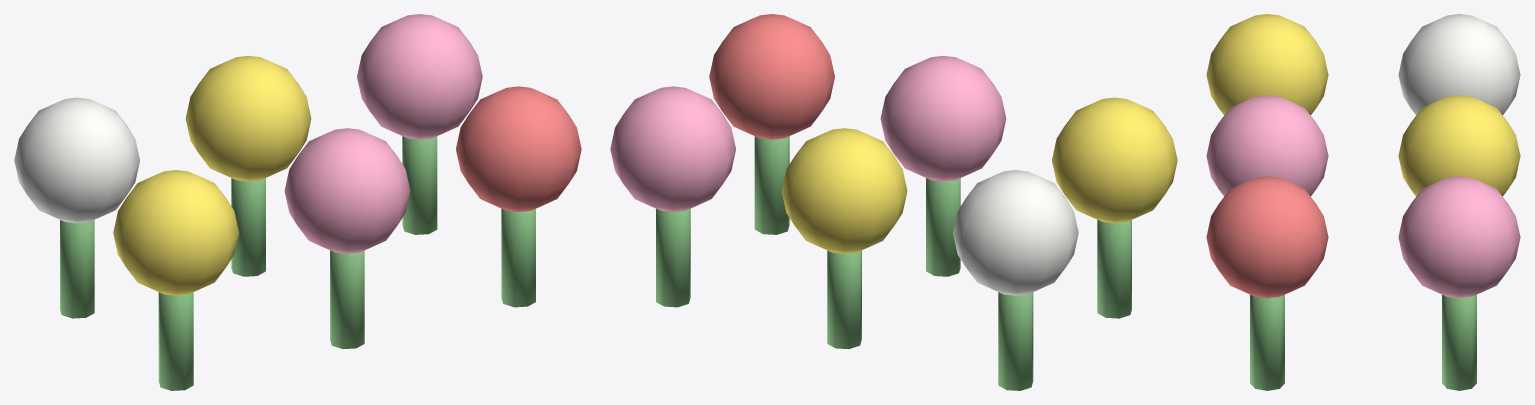
File: flowers.glb
3 renders of one model, left to right at view 1: azimuth 30°, elevation 25°; view 2: azimuth 150°, elevation 25°; view 3: azimuth 270°, elevation 25°, orthographic. The views are drawn at different scales.
Parts seen in each view (by area): view 1: Bloom_3, Bloom_0, Bloom_1, Bloom_4, Bloom_5, Bloom_2, Stem_0, Stem_3, Stem_1, Stem_2, Stem_5, Stem_4; view 2: Bloom_0, Bloom_3, Bloom_4, Bloom_1, Bloom_2, Bloom_5, Stem_3, Stem_0, Stem_4, Stem_5, Stem_2, Stem_1; view 3: Bloom_2, Bloom_5, Bloom_1, Bloom_4, Bloom_0, Bloom_3, Stem_2, Stem_5.
Part boxes in pixels (x1=…): Bloom_3: x1=14, y1=97, x2=139, y2=223; Bloom_0: x1=113, y1=170, x2=238, y2=295; Bloom_1: x1=284, y1=128, x2=410, y2=253; Bloom_4: x1=185, y1=56, x2=311, y2=181; Bloom_5: x1=357, y1=14, x2=482, y2=139; Bloom_2: x1=456, y1=86, x2=581, y2=211; Stem_0: x1=158, y1=292, x2=193, y2=390; Stem_3: x1=60, y1=220, x2=94, y2=318; Stem_1: x1=330, y1=250, x2=364, y2=348; Stem_2: x1=501, y1=208, x2=535, y2=307; Stem_5: x1=402, y1=136, x2=437, y2=234; Stem_4: x1=231, y1=178, x2=265, y2=276; Bloom_0: x1=1052, y1=97, x2=1177, y2=223; Bloom_3: x1=953, y1=170, x2=1078, y2=295; Bloom_4: x1=781, y1=128, x2=907, y2=253; Bloom_1: x1=880, y1=56, x2=1006, y2=181; Bloom_2: x1=709, y1=14, x2=834, y2=139; Bloom_5: x1=610, y1=86, x2=735, y2=211; Stem_3: x1=998, y1=292, x2=1033, y2=390; Stem_0: x1=1097, y1=220, x2=1131, y2=318; Stem_4: x1=827, y1=250, x2=861, y2=348; Stem_5: x1=656, y1=208, x2=690, y2=307; Stem_2: x1=754, y1=136, x2=789, y2=234; Stem_1: x1=926, y1=178, x2=960, y2=276; Bloom_2: x1=1206, y1=176, x2=1328, y2=298; Bloom_5: x1=1398, y1=176, x2=1520, y2=298; Bloom_1: x1=1206, y1=95, x2=1328, y2=196; Bloom_4: x1=1398, y1=95, x2=1520, y2=196; Bloom_0: x1=1206, y1=14, x2=1328, y2=115; Bloom_3: x1=1398, y1=14, x2=1520, y2=115; Stem_2: x1=1250, y1=294, x2=1284, y2=390; Stem_5: x1=1442, y1=294, x2=1476, y2=390.
Bounding box in the file's own units: 0.58 × 0.255 × 0.36.
